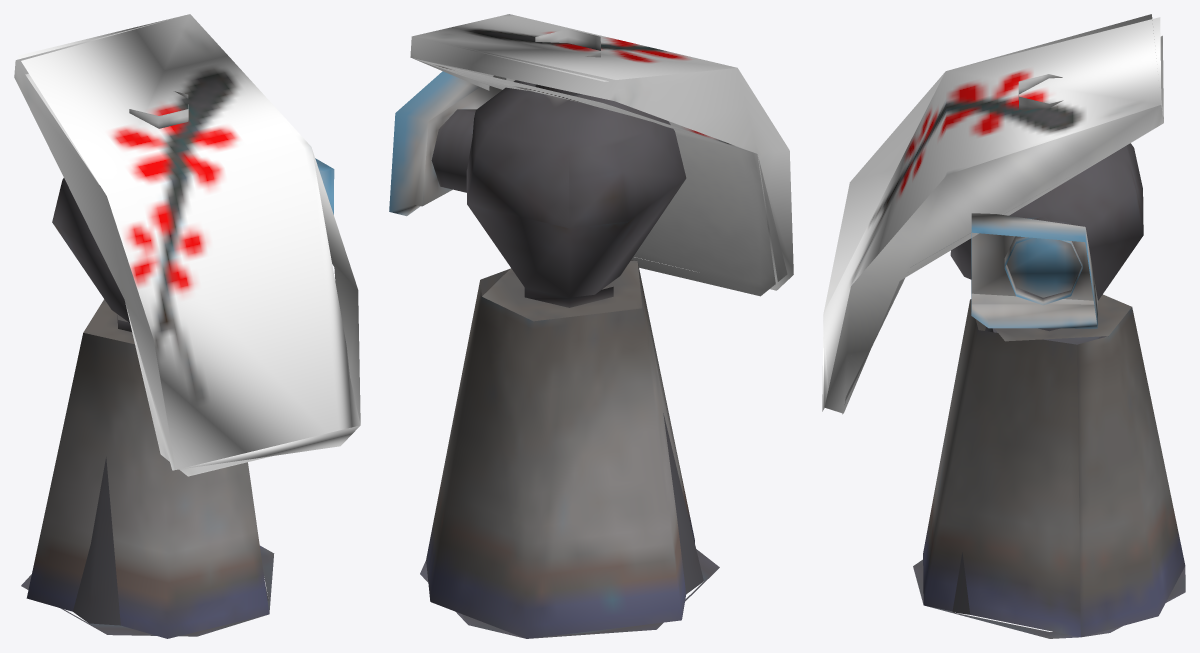
Rendered from jet2.glb.
3 renders of one model, left to right at view 1: azimuth 30°, elevation 25°; view 2: azimuth 150°, elevation 25°; view 3: azimuth 270°, elevation 25°, orthographic. The views are drawn at different scales.
Parts seen in each view (by area): view 1: m_jumppack_04_Material.001_0; view 2: m_jumppack_04_Material.001_0; view 3: m_jumppack_04_Material.001_0.
Part boxes in pixels (x1,y1,x2,y2): m_jumppack_04_Material.001_0: (14,14,360,638); m_jumppack_04_Material.001_0: (389,14,793,638); m_jumppack_04_Material.001_0: (822,14,1185,638).
Bounding box in the file's own units: 8.65 × 16.44 × 10.4.
1 material, 1 textured.
